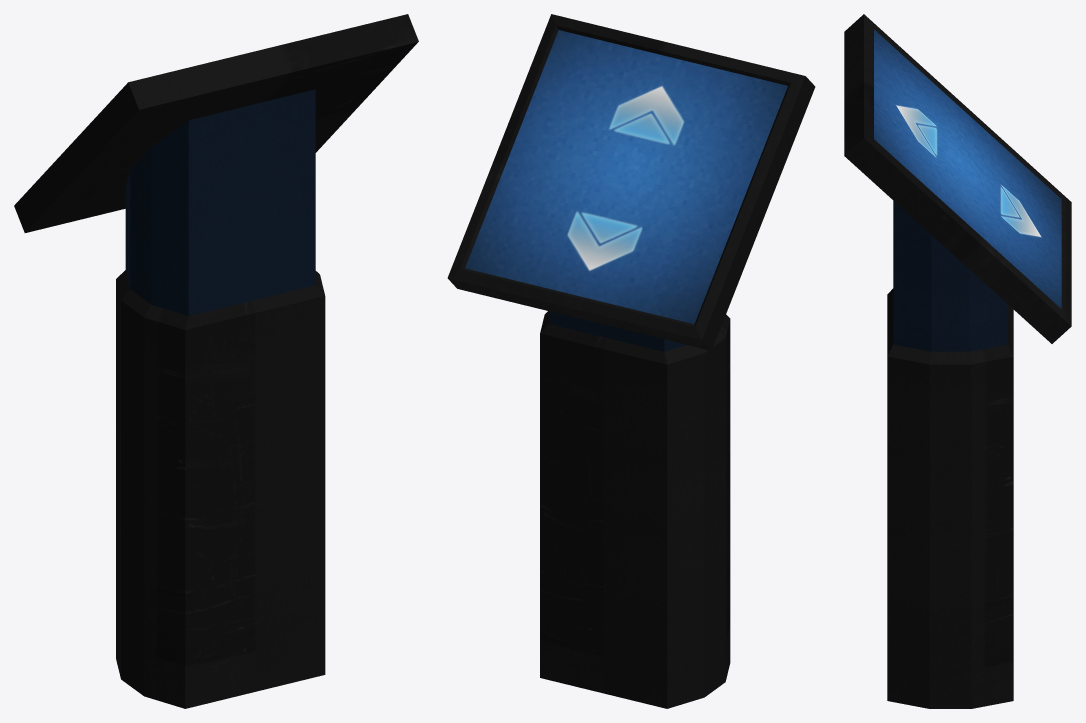
Rendered from Console.fbx.
The picture shows the model from 3 angles, left to right: view 1: azimuth 30°, elevation 25°; view 2: azimuth 150°, elevation 25°; view 3: azimuth 270°, elevation 25°; orthographic projection. The views are drawn at different scales.
Parts seen in each view (by area): view 1: Console; view 2: Console; view 3: Console.
Part boxes in pixels (<box>): Console: <box>14,14,418,708</box>; Console: <box>447,14,815,708</box>; Console: <box>844,14,1071,708</box>.
Bounding box in the file's own units: 0.721 × 1.61 × 0.5581.
